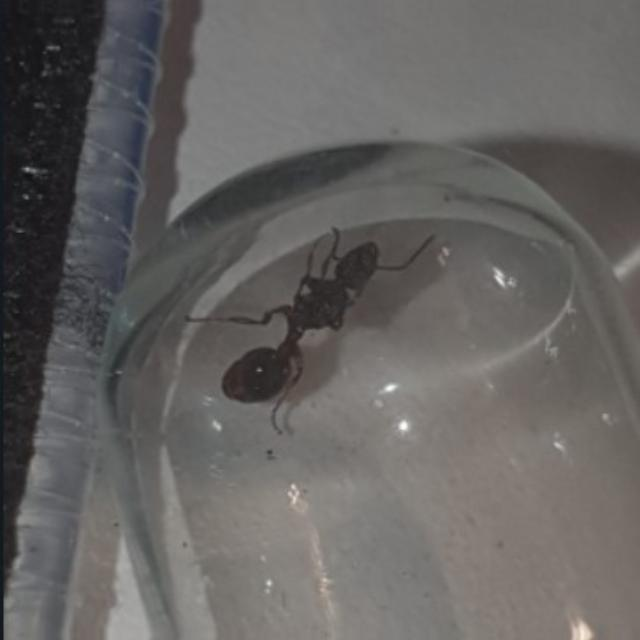Myrmica: (193, 200, 425, 424)
